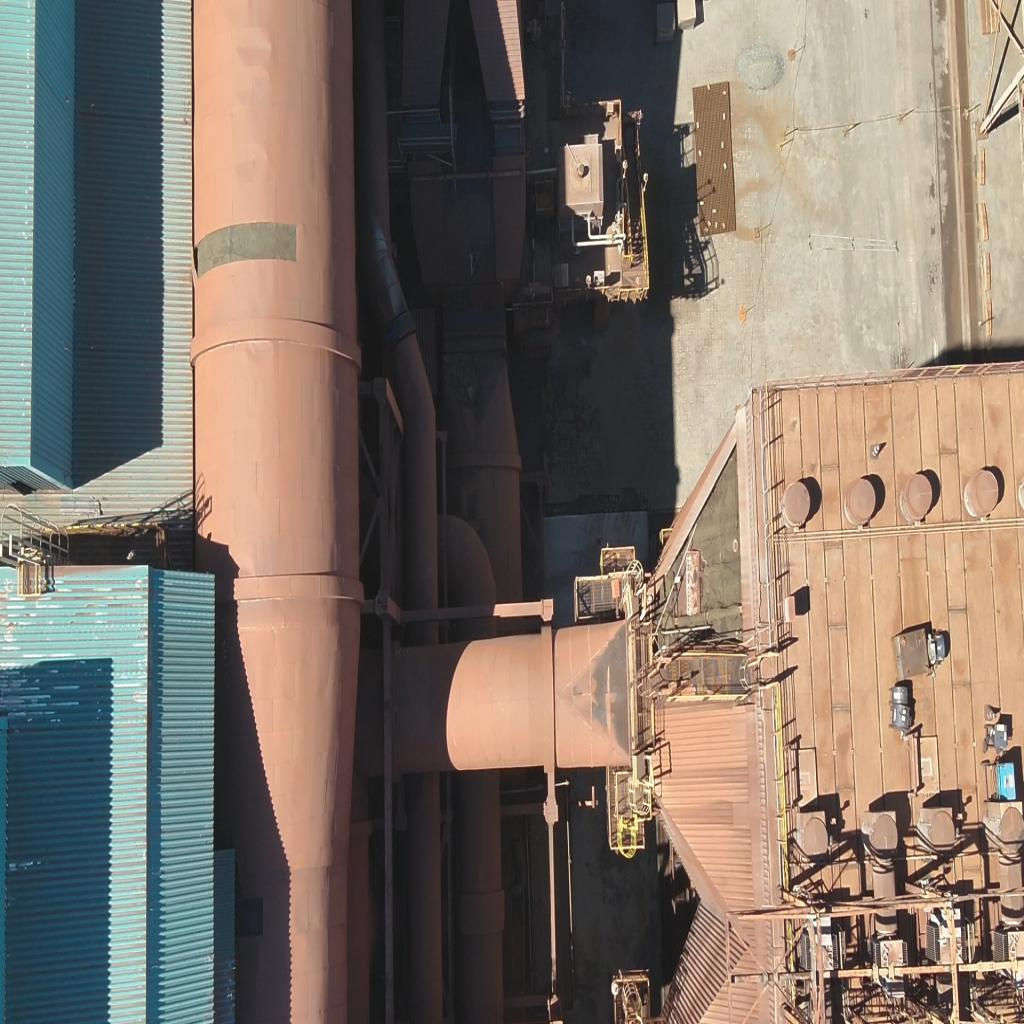Failures: (668, 449, 748, 692), (191, 212, 300, 283)
